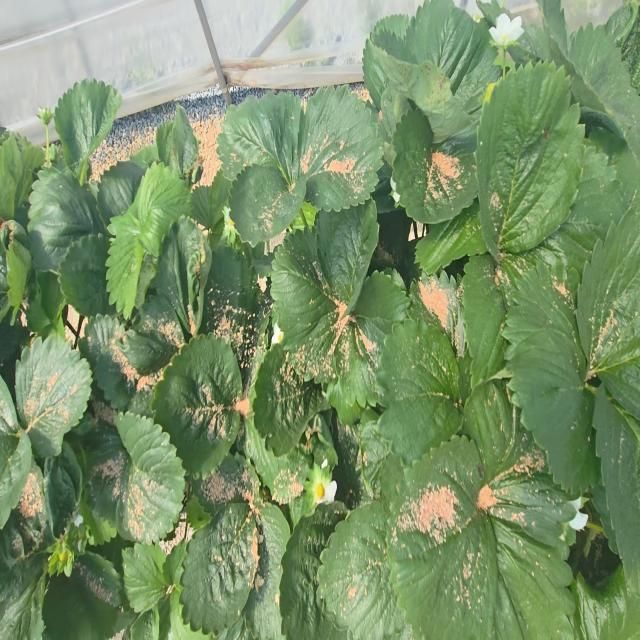Flowers: (489, 13, 524, 49), (312, 461, 337, 506), (271, 323, 283, 345)
Leaves: (377, 437, 525, 639), (463, 381, 575, 639), (476, 62, 586, 258), (504, 261, 594, 492), (577, 200, 640, 438), (154, 334, 242, 477), (378, 319, 462, 460), (318, 501, 398, 639), (181, 503, 261, 632), (271, 231, 340, 379), (301, 86, 383, 210), (392, 108, 478, 223), (200, 241, 271, 378), (15, 334, 92, 457), (593, 391, 640, 588), (115, 411, 185, 543), (280, 504, 348, 639), (252, 343, 327, 455), (27, 168, 107, 271), (218, 92, 302, 184), (154, 216, 211, 335), (316, 199, 378, 308), (229, 160, 306, 245), (244, 503, 290, 639), (55, 79, 122, 170), (126, 162, 189, 257), (462, 256, 507, 388), (244, 416, 308, 501), (106, 188, 145, 318), (121, 297, 184, 376), (330, 321, 378, 424), (0, 376, 32, 529), (58, 235, 116, 316), (351, 268, 409, 341), (0, 551, 46, 639), (192, 453, 261, 510), (43, 442, 82, 537), (410, 273, 459, 346), (156, 105, 198, 186), (123, 543, 168, 612), (97, 161, 145, 220), (192, 172, 230, 229)
Strawberries: (48, 532, 74, 577), (221, 206, 244, 247)
